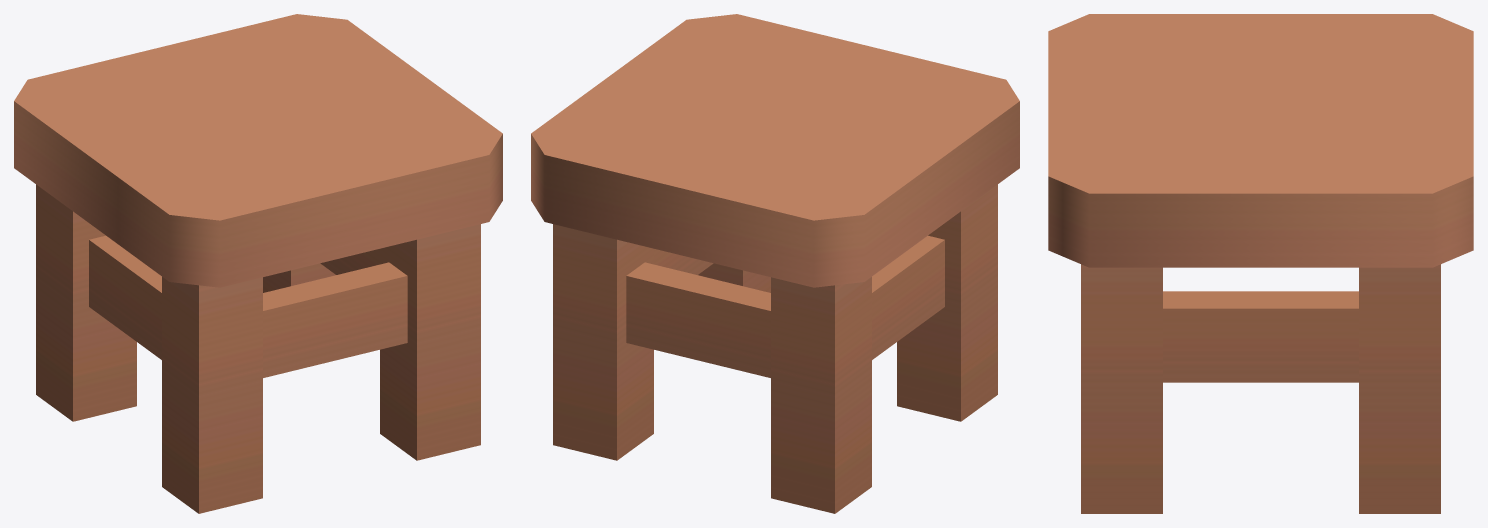
Rendered from stall-stool.glb.
The picture shows the model from 3 angles, left to right: view 1: azimuth 30°, elevation 25°; view 2: azimuth 150°, elevation 25°; view 3: azimuth 270°, elevation 25°; orthographic projection. The views are drawn at different scales.
Parts seen in each view (by area): view 1: stall-stool; view 2: stall-stool; view 3: stall-stool.
Part boxes in pixels (box(x1,y1,x2,y2)): stall-stool: box(14, 14, 502, 513); stall-stool: box(531, 14, 1019, 513); stall-stool: box(1048, 14, 1473, 513).
Size of the model in its own units: 0.26 by 0.2255 by 0.26.
1 material, 1 textured.
